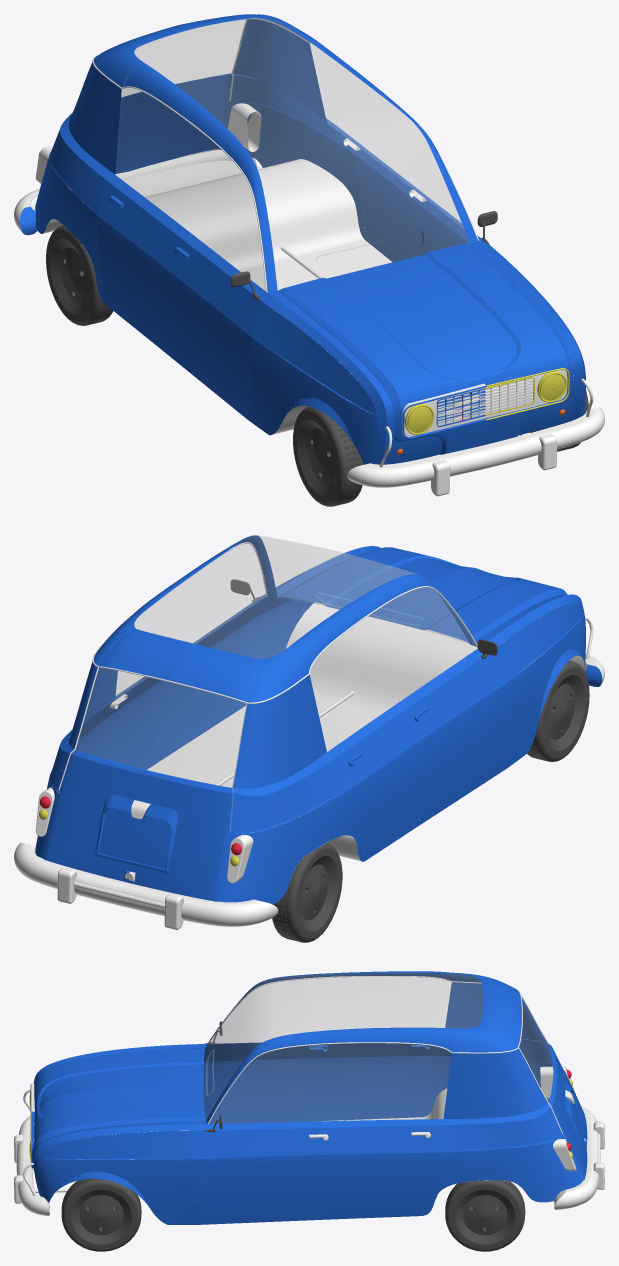
3 renders of one model, top to bottom at view 1: azimuth 30°, elevation 25°; view 2: azimuth 150°, elevation 25°; view 3: azimuth 270°, elevation 25°, orthographic. The views are drawn at different scales.
Parts seen in each view (by area): view 1: Wheels and axel; view 2: Wheels and axel; view 3: Wheels and axel.
Boxes of the visible parts, x1,y1,x2,y2 form: Wheels and axel: (14,14,604,506); Wheels and axel: (14,535,604,942); Wheels and axel: (14,971,604,1251).
Bounding box in the file's own units: 1.5 × 1.45 × 3.7.
